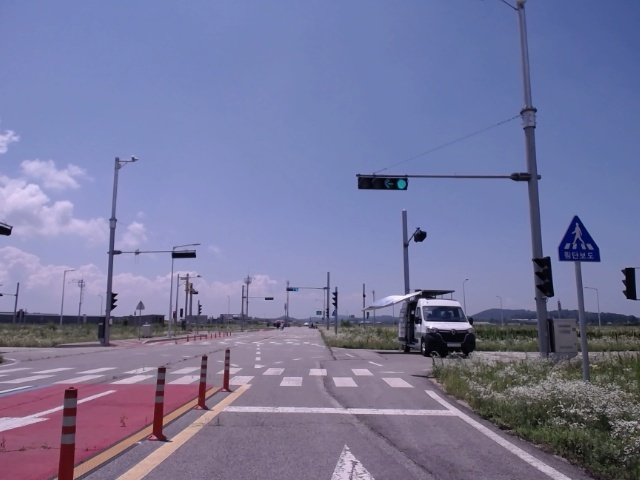all_green_4: (354, 175, 409, 191)
